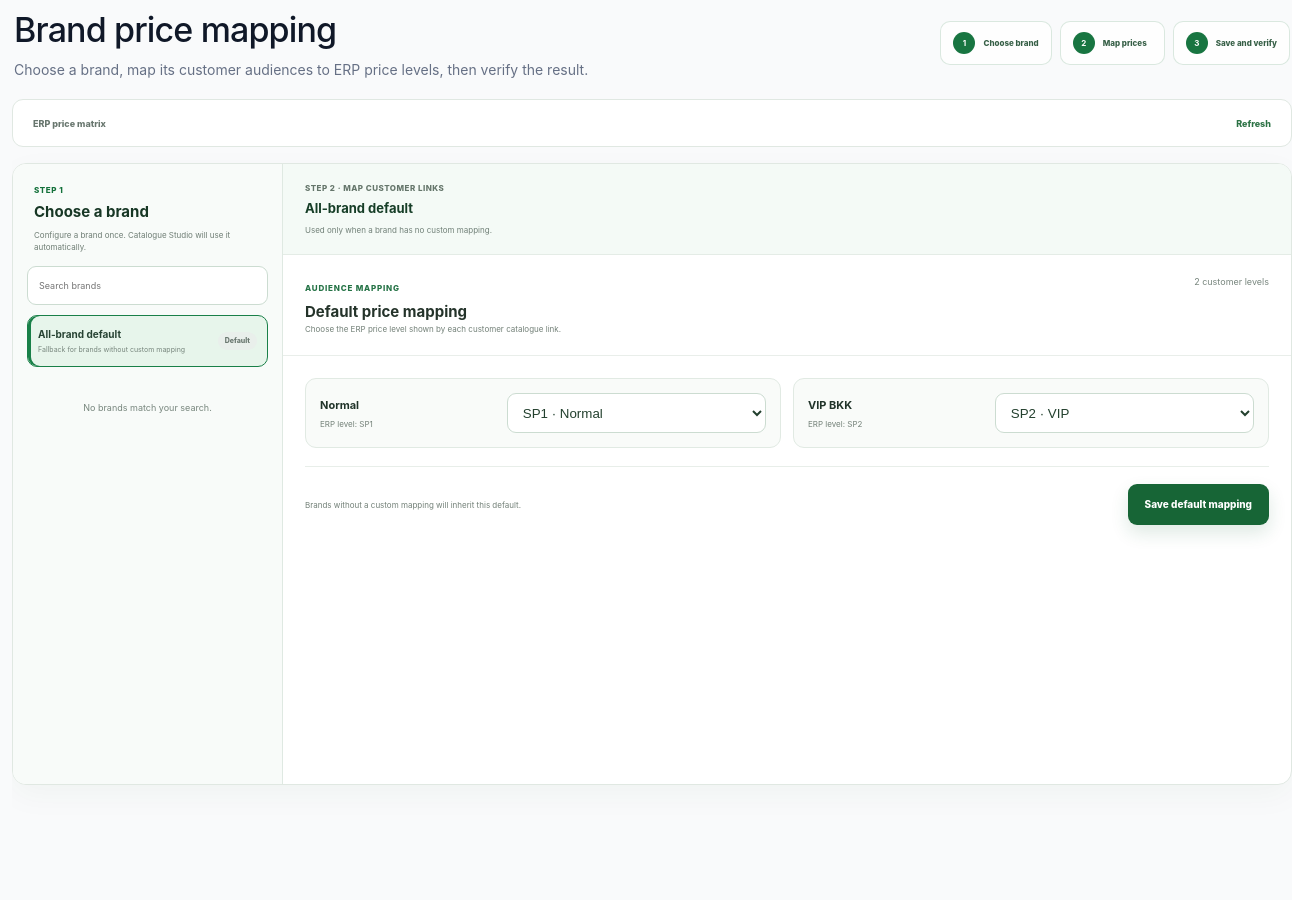
Test case: PriceManagement customer-level mapping › removes the redundant catalogue mapping tab without removing either pricing view
The width and height of the screenshot is (1292, 900).
Expected: the heading "Choose a brand" is shown, [34,202,149,221]
Click the button "ERP price matrix": (69, 123) [18,105,121,141]
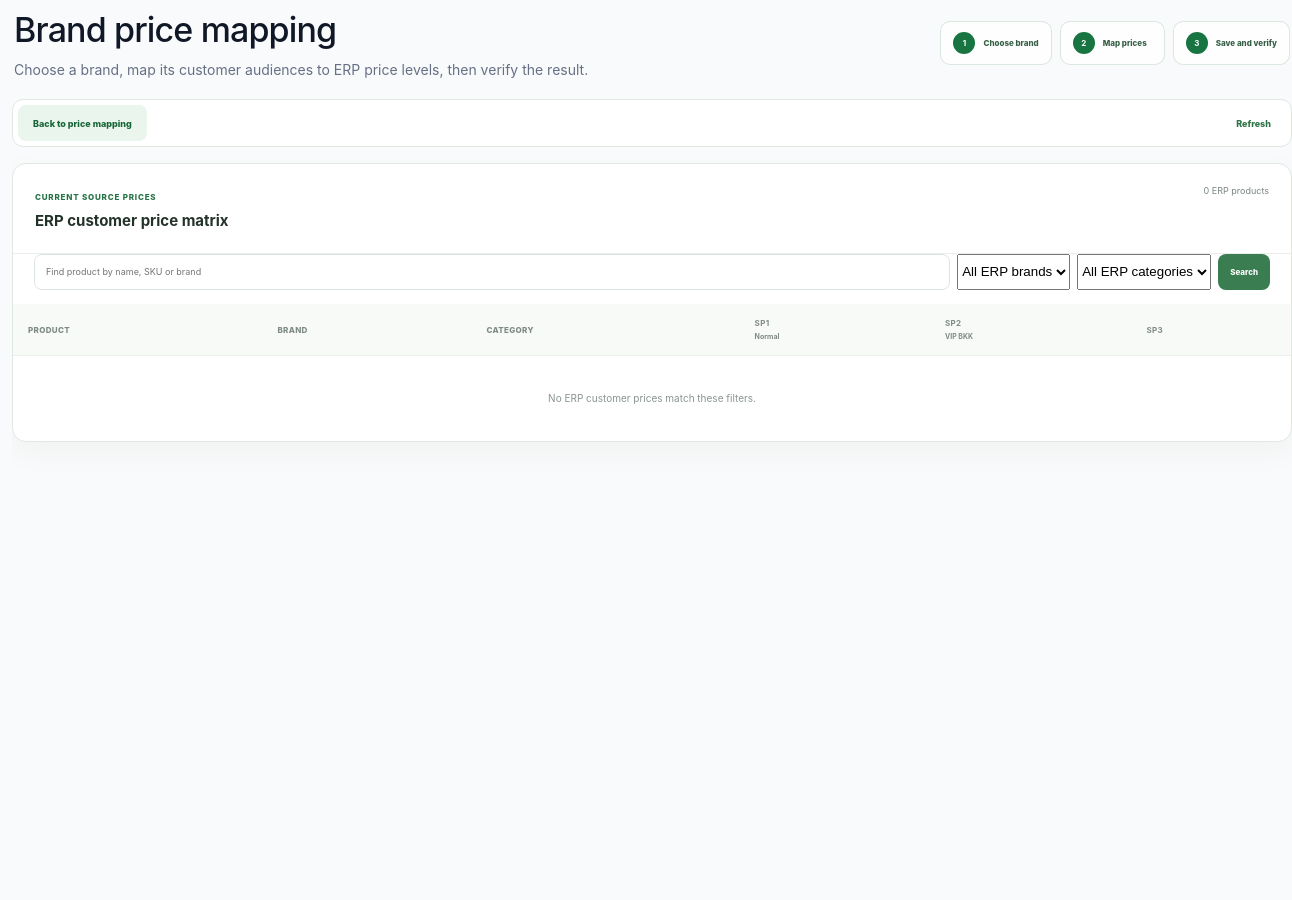
Expected: the heading "ERP customer price matrix" is shown, [35,210,228,233]
Click the button "Back to price mapping": (82, 123) [18,105,147,141]
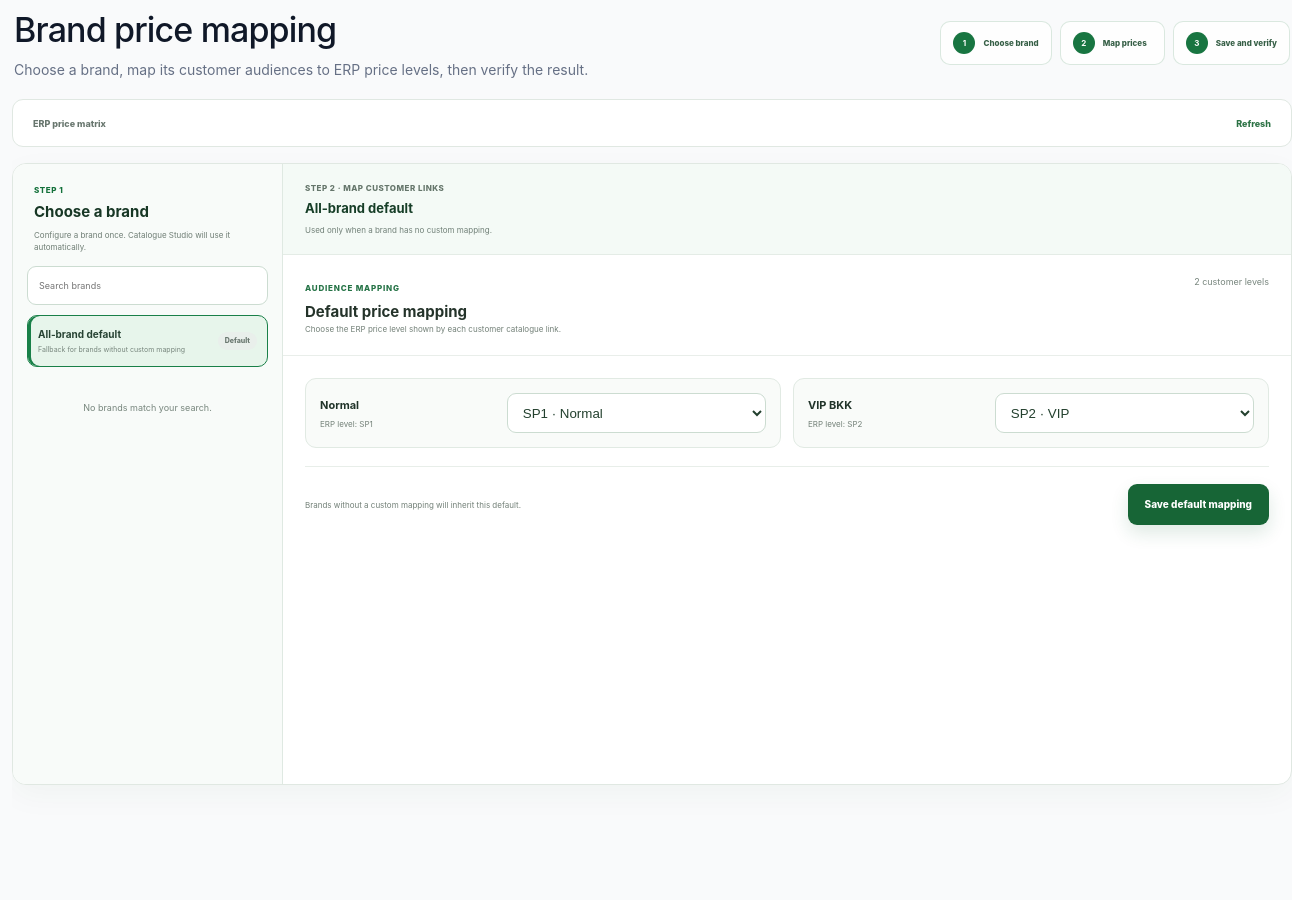
Expected: the heading "Choose a brand" is shown, [34,202,149,221]
